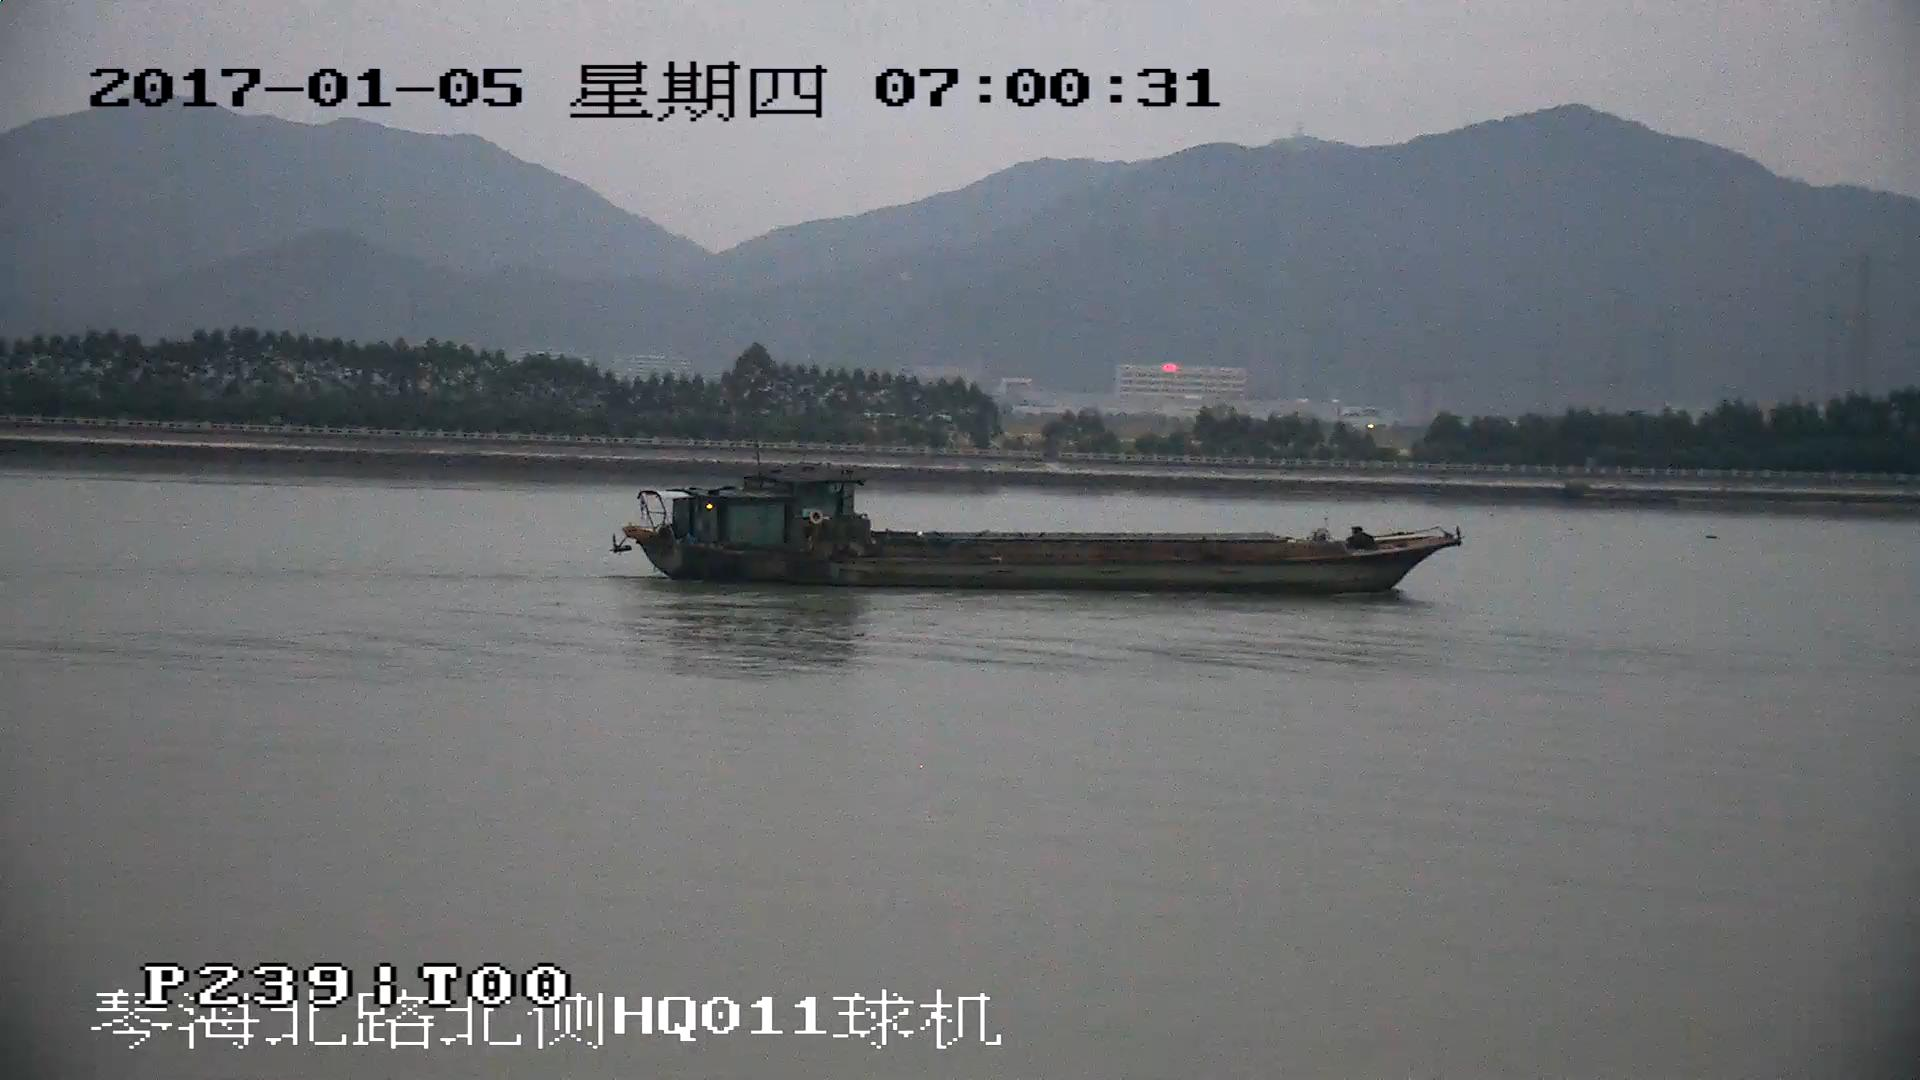bulk cargo carrier: (610, 474, 1463, 599)
